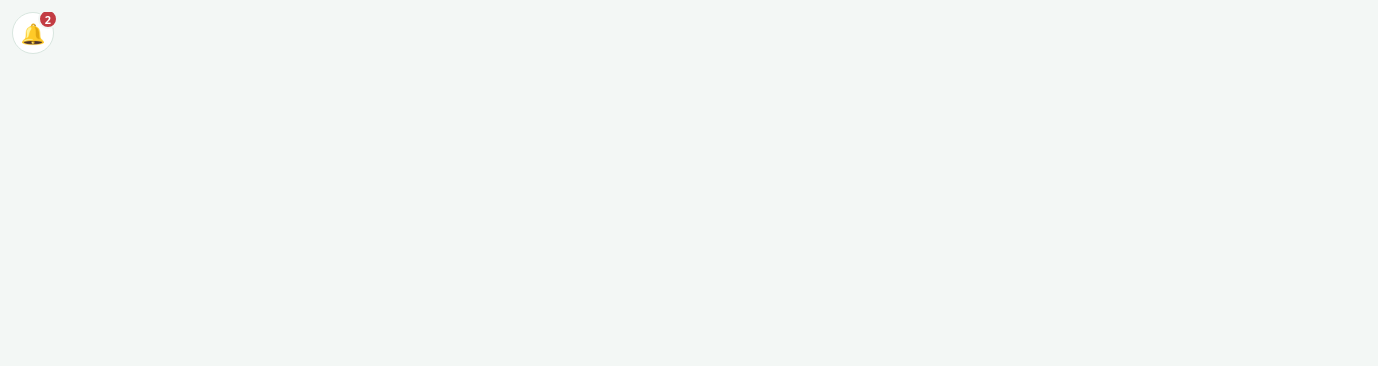
Scenario: loads notifications for the user, toggles the dropdown and stops event propagation
Later steps or results of the test are not shown.
Click the button named "Notifiche: 2 non lette". click: (33, 33)
box: [12,12,54,54]
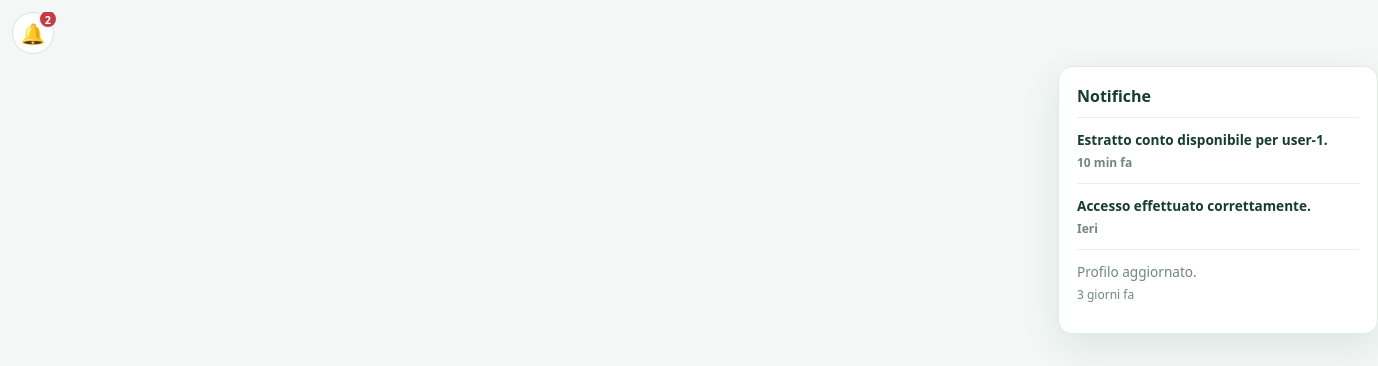
Result: the element "Notifiche" is shown at [1058,66,1377,334]
Result: the text "Estratto conto disponibile per user-1." is shown at [1077,130,1359,149]
Click the button named "Notifiche: 2 non lette". click: (33, 33)
box: [12,12,54,54]
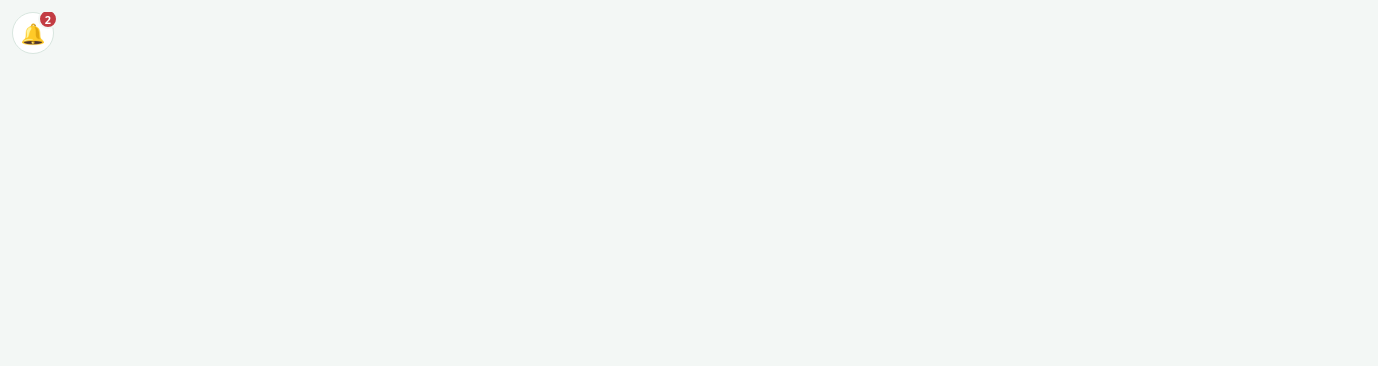
Result: the heading "Notifiche" is gone
